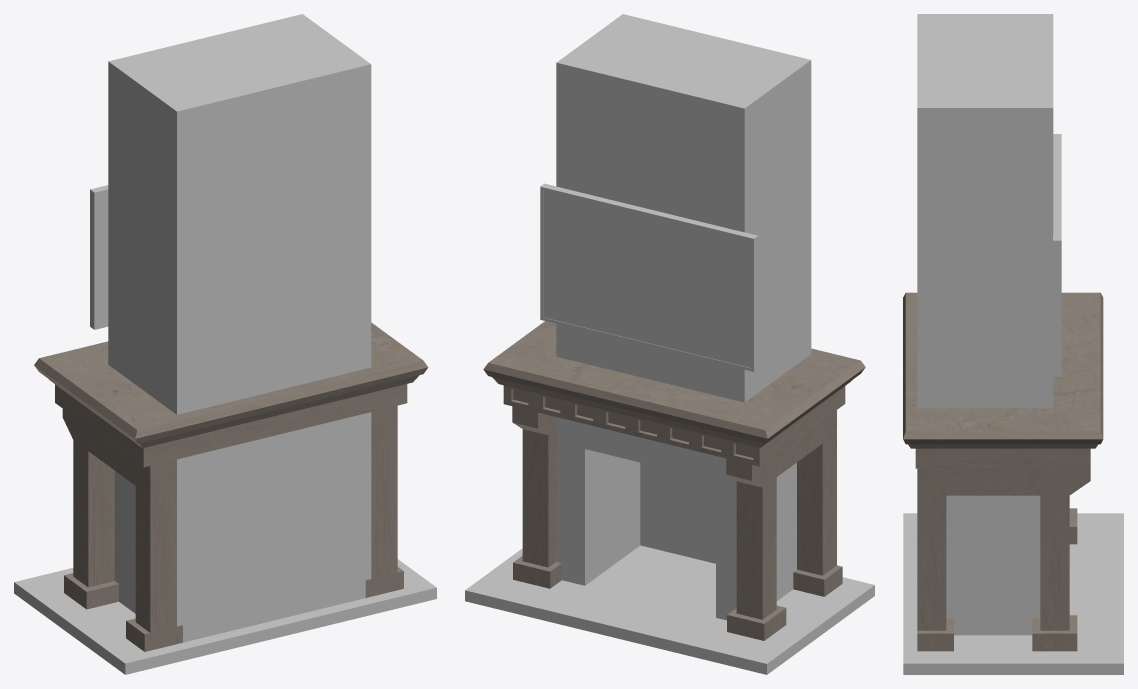
The model's file is 5. 벽난로.fbx.
3 renders of one model, left to right at view 1: azimuth 30°, elevation 25°; view 2: azimuth 150°, elevation 25°; view 3: azimuth 270°, elevation 25°, orthographic. The views are drawn at different scales.
Visible parts, largest first — view 1: 기둥위1층; view 2: 기둥위1층; view 3: 기둥위1층.
Boxes of the visible parts, x1,y1,x2,y2 form: 기둥위1층: [14, 14, 436, 674]; 기둥위1층: [465, 14, 874, 674]; 기둥위1층: [903, 14, 1123, 674].
Size of the model in its own units: 286 by 476 by 177.
